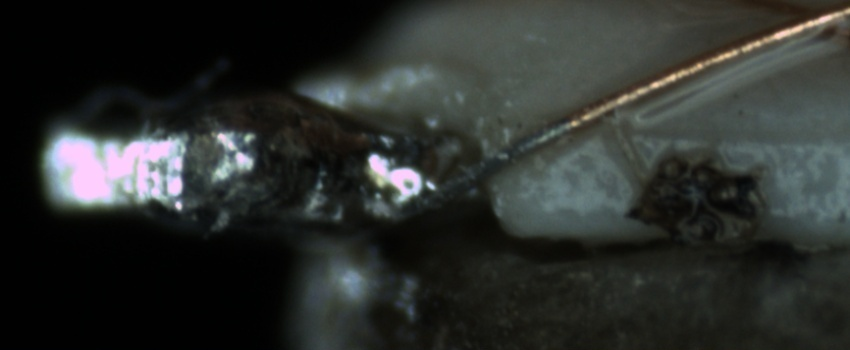CL: (750, 0, 844, 63)
TS: (416, 119, 567, 215)
